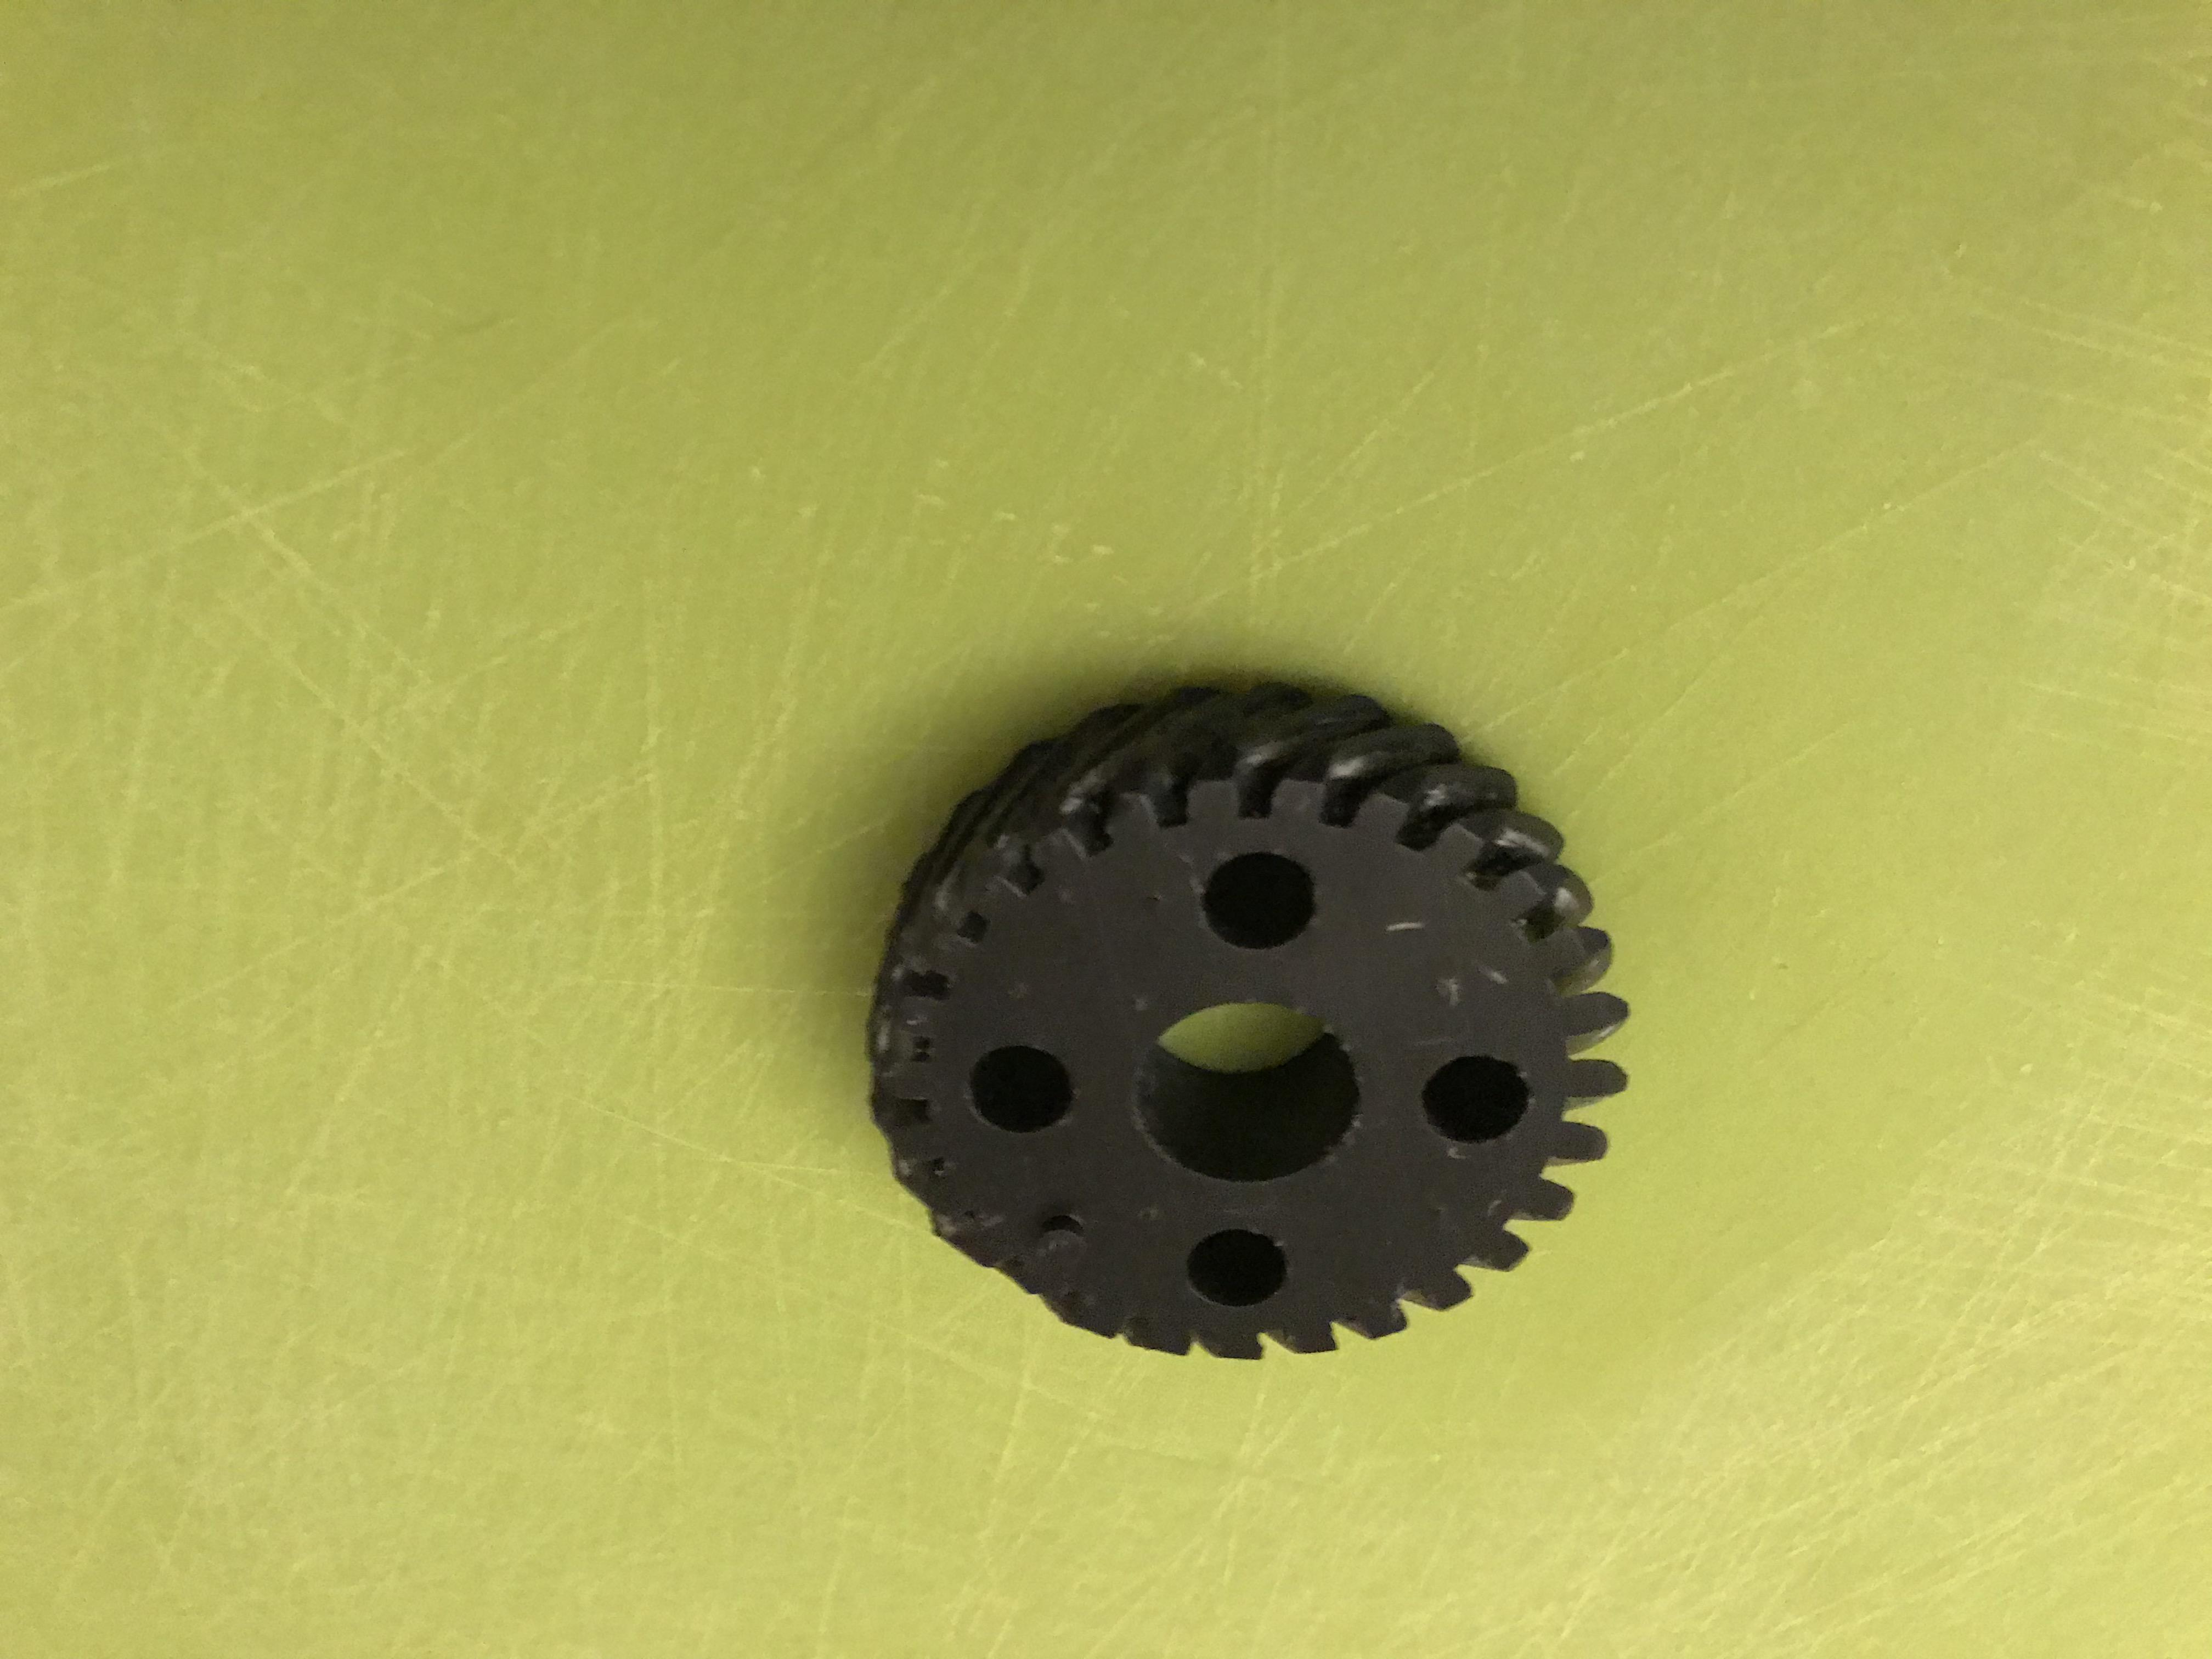Wheel: (855, 671, 1644, 1389)
